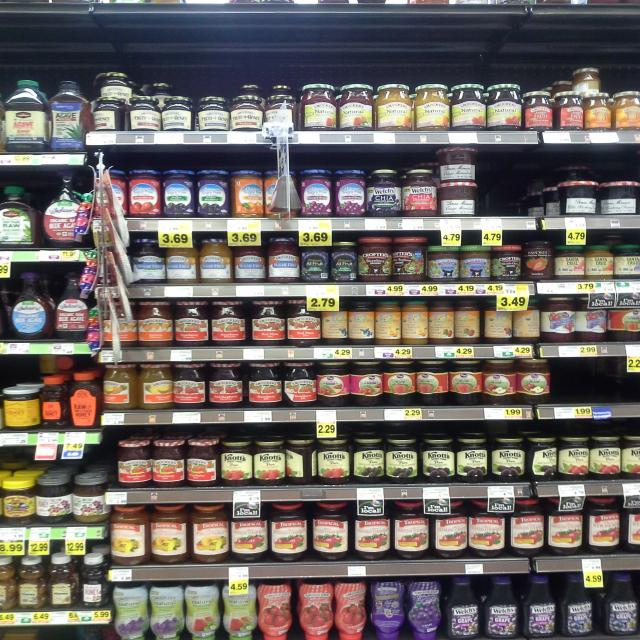void: (481, 151, 516, 245), (520, 153, 553, 242), (552, 360, 597, 421), (598, 358, 636, 422)
